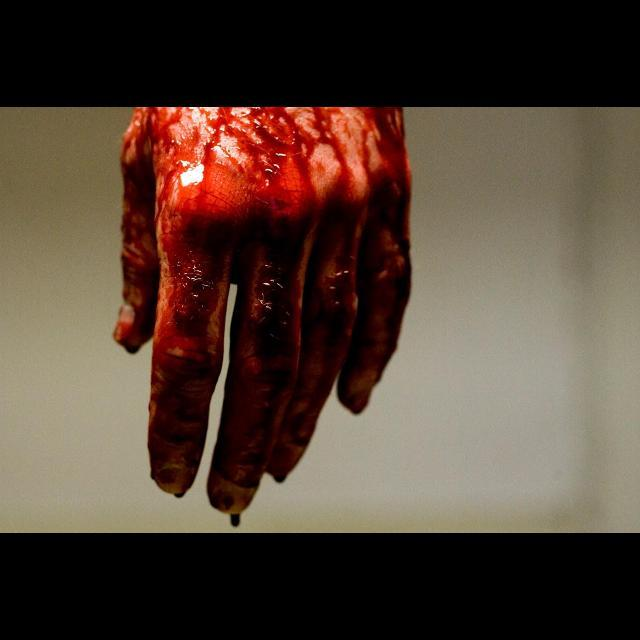blood: (113, 107, 411, 526)
